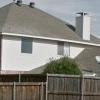Chimney: (66, 8, 96, 46)
